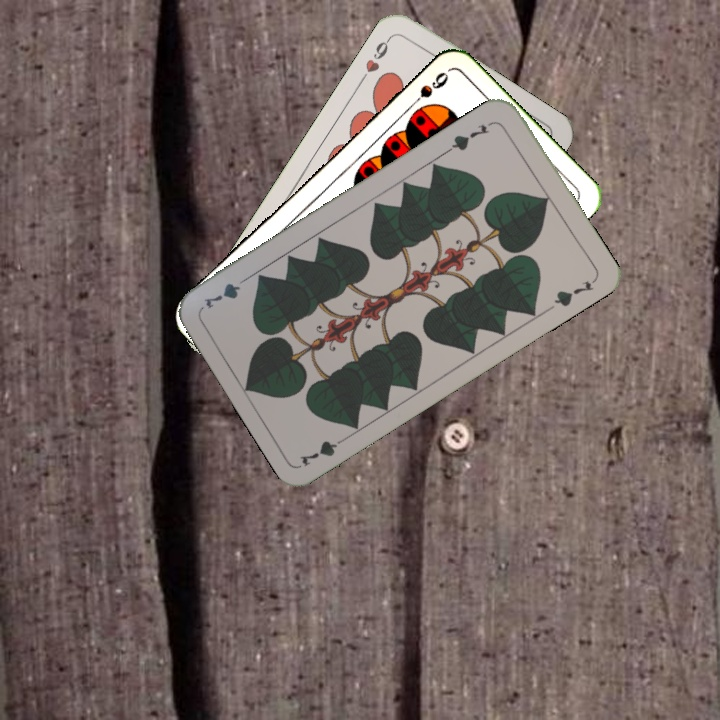G7: (296, 431, 352, 470), (444, 120, 492, 155)
H9: (356, 32, 394, 85)
S9: (403, 67, 452, 113)
